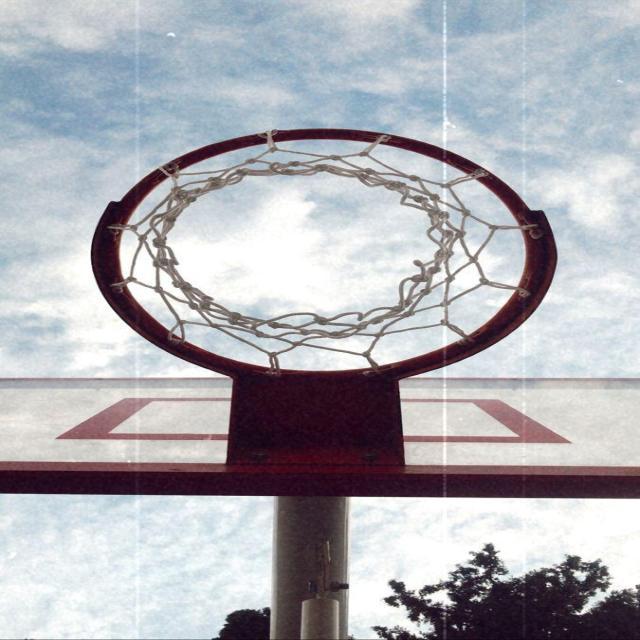hoop: (43, 138, 582, 444)
